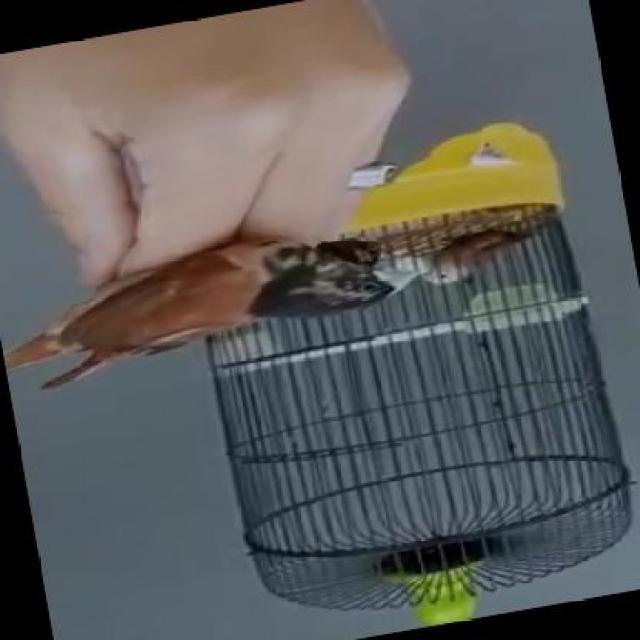Bird: (4, 213, 389, 386), (399, 216, 564, 333)
